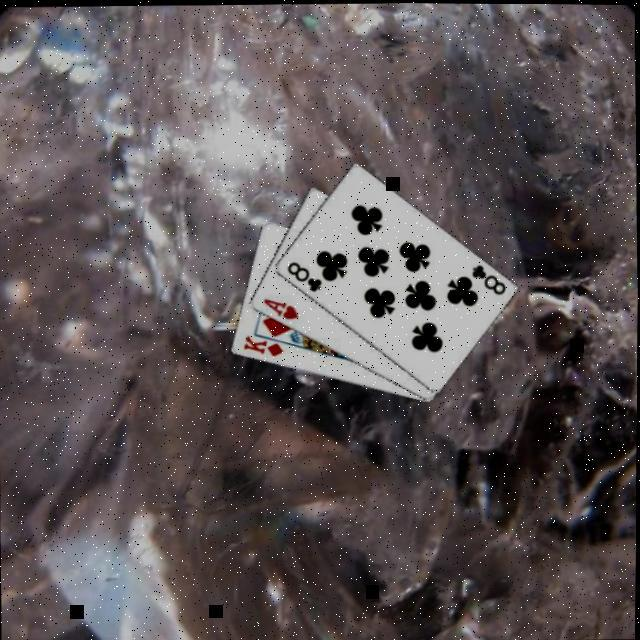8C: (282, 258, 324, 296), (467, 260, 508, 298)
AH: (260, 295, 300, 322)
KD: (240, 332, 284, 360)
